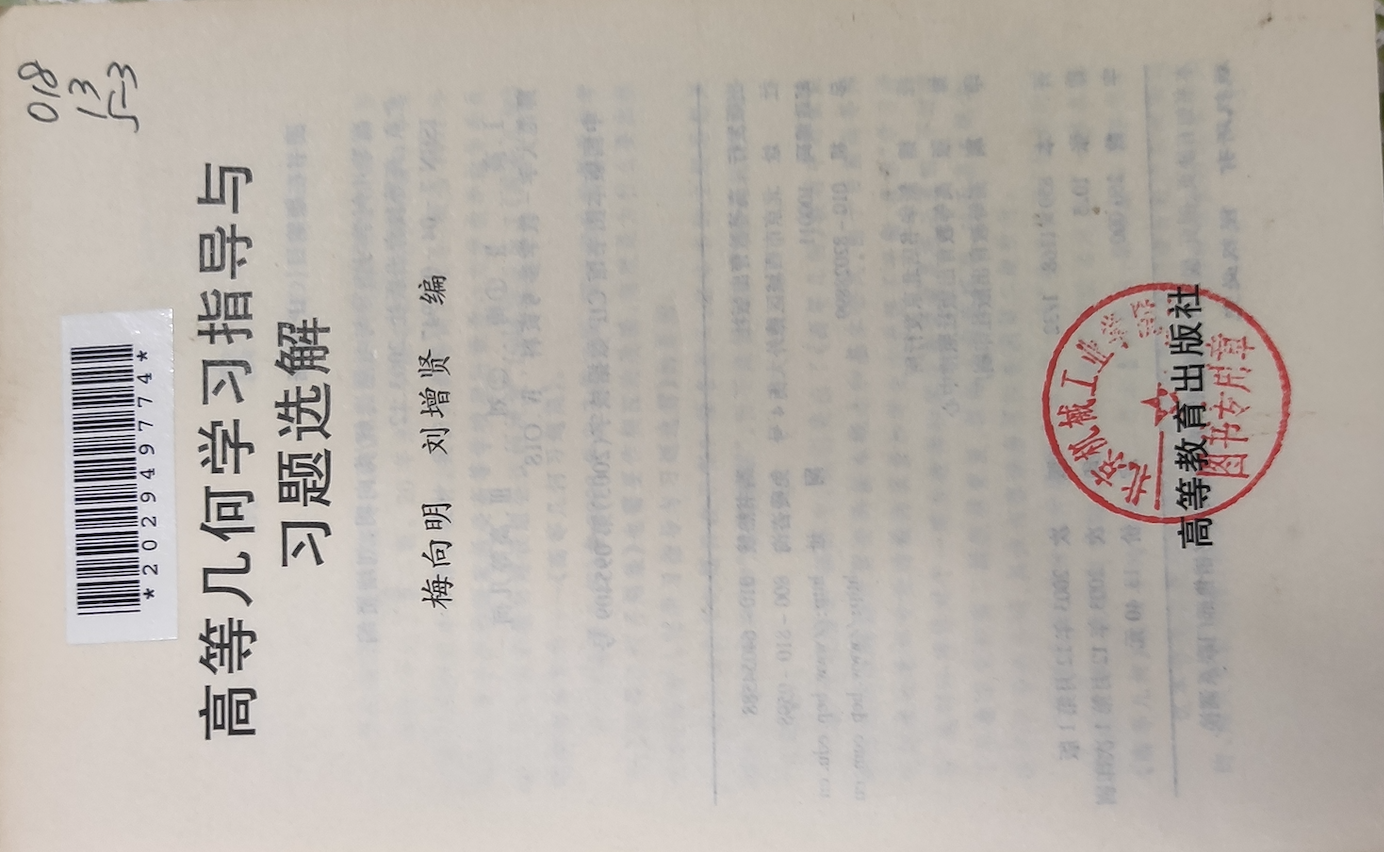Text_area: (61, 137, 444, 804), (1046, 233, 1303, 559), (12, 31, 161, 151)
